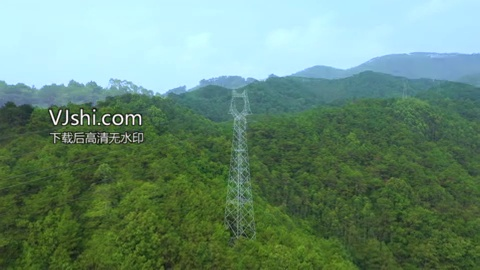tower_body: (221, 83, 261, 244)
tower_foot: (223, 206, 259, 241)
tower_head: (226, 86, 256, 120)
